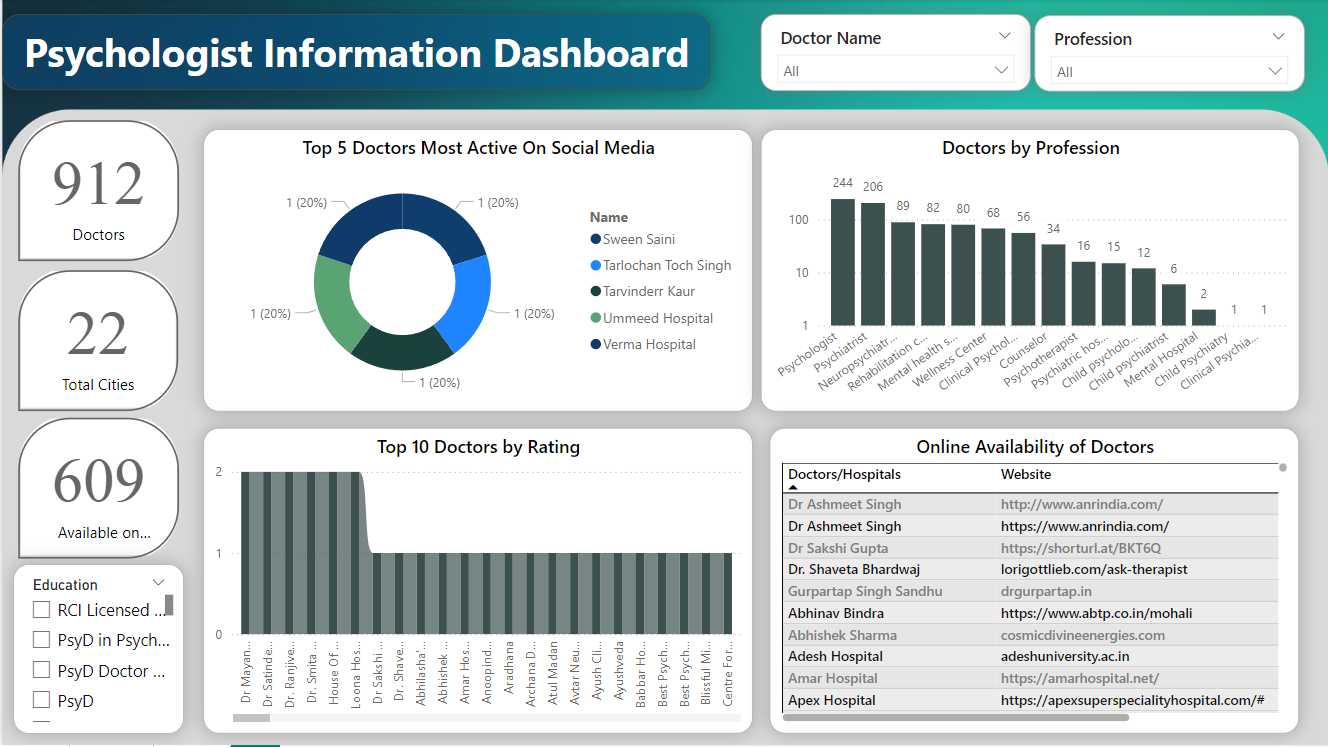

The dashboard page shown, as its layout file describes it:
{"tool":"powerbi","page":{"name":"Overview","canvas":[1280,720],"ordinal":0},"visuals":[{"type":"cardVisual","fields":{"Data":["CountNonNull(Final_Data.Name)"]},"box":[11.2,110,165,150],"z":0},{"type":"cardVisual","fields":{"Data":["Count(Final_Data.City)"]},"box":[11.3,254,164.7,150],"z":1000},{"type":"cardVisual","fields":{"Data":["Final_Data.Available on Social Media"]},"box":[11.2,397.5,165,150],"z":2000},{"type":"donutChart","title":"Top 5 Doctors Most Active On Social Media","fields":{"Category":["Final_Data.Name"],"Y":["CountNonNull(Final_Data.IG Active/Inactive)"]},"box":[193.8,125,530,272.5],"z":3000},{"type":"ribbonChart","title":"Top 10 Doctors by Rating","fields":{"Category":["Final_Data.Name"],"Y":["CountNonNull(Final_Data.Rating)"]},"box":[193.8,413.8,530,295],"z":4000},{"type":"lineStackedColumnComboChart","title":"Doctors by Profession","fields":{"Category":["Final_Data.Profession"],"Y":["CountNonNull(Final_Data.Name)"]},"box":[732.5,125,520,272.5],"z":5000},{"type":"slicer","fields":{"Values":["Final_Data.Education"]},"box":[11.2,545,165,163.8],"z":6000},{"type":"textbox","box":[0,14.5,684.1,73.6],"z":7000},{"type":"tableEx","title":"Online Availability of Doctors","fields":{"Values":["Final_Data.Name","Final_Data.Website"]},"box":[740.8,413.8,511.5,295.6],"z":8000},{"type":"slicer","fields":{"Values":["Final_Data.Name"]},"box":[732.3,14.5,260.6,74.8],"z":8001},{"type":"slicer","fields":{"Values":["Final_Data.Profession"]},"box":[996.5,15.7,260.6,73.6],"z":8002}]}

Visuals, with their boxes in screenshot pixels (x1, y1, x2, y2), scaled from the page's 1280x720 canvas onto the 1328x747 screenshot:
cardVisual - CountNonNull(Final_Data.Name): (x1=12, y1=114, x2=183, y2=270)
cardVisual - Count(Final_Data.City): (x1=12, y1=264, x2=183, y2=419)
cardVisual - Final_Data.Available on Social Media: (x1=12, y1=412, x2=183, y2=568)
"Top 5 Doctors Most Active On Social Media" donutChart: (x1=201, y1=130, x2=751, y2=412)
"Top 10 Doctors by Rating" ribbonChart: (x1=201, y1=429, x2=751, y2=735)
"Doctors by Profession" lineStackedColumnComboChart: (x1=760, y1=130, x2=1299, y2=412)
slicer - Final_Data.Education: (x1=12, y1=565, x2=183, y2=735)
textbox: (x1=0, y1=15, x2=710, y2=91)
"Online Availability of Doctors" tableEx: (x1=769, y1=429, x2=1299, y2=736)
slicer - Final_Data.Name: (x1=760, y1=15, x2=1030, y2=93)
slicer - Final_Data.Profession: (x1=1034, y1=16, x2=1304, y2=93)
